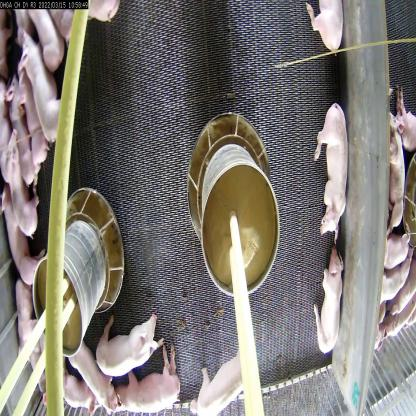Pig: (307, 84, 354, 270), (14, 20, 64, 142), (94, 314, 167, 386), (187, 342, 250, 415), (0, 199, 44, 287), (115, 360, 177, 416), (0, 130, 35, 226), (314, 250, 338, 371), (306, 0, 349, 64), (30, 24, 74, 72), (71, 334, 100, 379)
